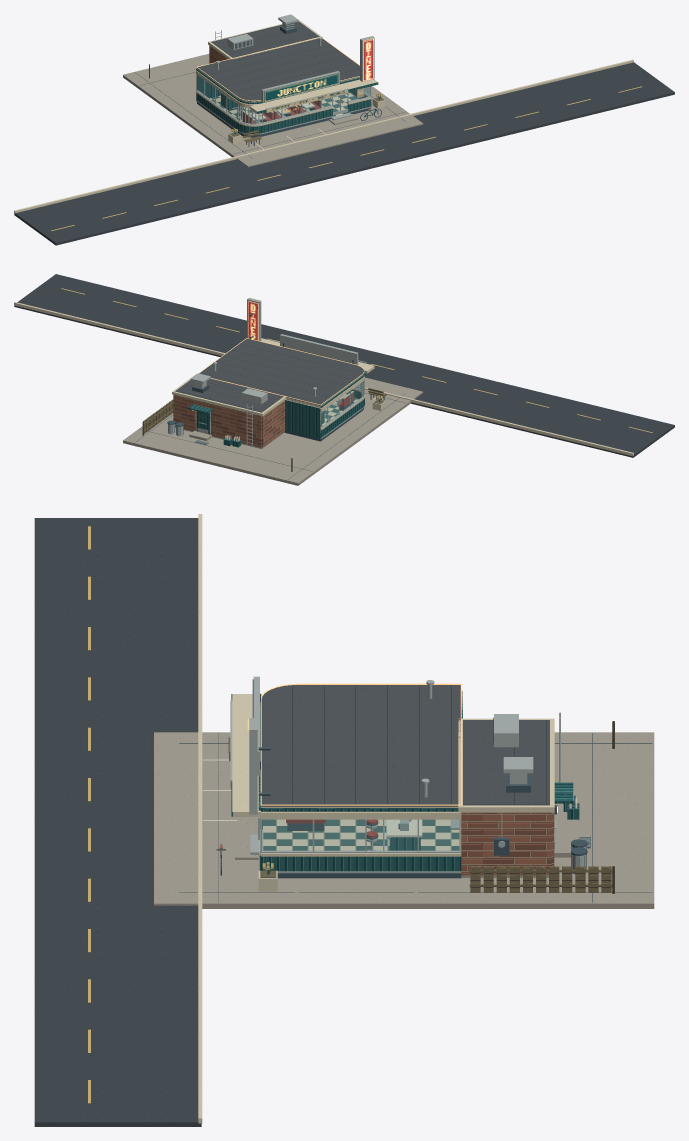
Rendered from junction-diner.glb.
3 renders of one model, top to bottom at view 1: azimuth 30°, elevation 25°; view 2: azimuth 150°, elevation 25°; view 3: azimuth 270°, elevation 25°, orthographic. The views are drawn at different scales.
Parts seen in each view (by area): view 1: Junction Diner | 11 • patched road, Junction Diner | 10 • sidewalk concrete, Junction Diner | 05 • rolled roofing, Junction Diner | 02 • warm porcelain enamel, Junction Diner | 06 • brushed aluminium, Junction Diner | 01 • oxidised teal enamel, Junction Diner | 12 • thin teal glazing, Junction Diner | 07 • deep outline, Junction Diner | 21 • original JUNCTION pixel lettering, Junction Diner | 09 • checker linoleum, Junction Diner | 13 • aged ochre paint, Junction Diner | 22 • original DINER pixel lettering (+2 smaller); view 2: Junction Diner | 11 • patched road, Junction Diner | 10 • sidewalk concrete, Junction Diner | 05 • rolled roofing, Junction Diner | 02 • warm porcelain enamel, Junction Diner | 04 • kitchen brick, Junction Diner | 06 • brushed aluminium, Junction Diner | 01 • oxidised teal enamel, Junction Diner | 07 • deep outline, Junction Diner | 12 • thin teal glazing, Junction Diner | 08 • weathered timber, Junction Diner | 20 • coral neon, Junction Diner | 22 • original DINER pixel lettering (+1 smaller); view 3: Junction Diner | 11 • patched road, Junction Diner | 10 • sidewalk concrete, Junction Diner | 05 • rolled roofing, Junction Diner | 02 • warm porcelain enamel, Junction Diner | 06 • brushed aluminium, Junction Diner | 12 • thin teal glazing, Junction Diner | 01 • oxidised teal enamel, Junction Diner | 04 • kitchen brick, Junction Diner | 09 • checker linoleum, Junction Diner | 08 • weathered timber, Junction Diner | 07 • deep outline, Junction Diner | 20 • coral neon (+1 smaller).
Part boxes in pixels (x1,y1,x2,y2): Junction Diner | 11 • patched road: [14, 62, 674, 245]; Junction Diner | 10 • sidewalk concrete: [123, 54, 423, 167]; Junction Diner | 05 • rolled roofing: [197, 21, 359, 101]; Junction Diner | 02 • warm porcelain enamel: [14, 20, 633, 213]; Junction Diner | 06 • brushed aluminium: [196, 14, 379, 134]; Junction Diner | 01 • oxidised teal enamel: [196, 68, 378, 134]; Junction Diner | 12 • thin teal glazing: [197, 75, 370, 123]; Junction Diner | 07 • deep outline: [135, 23, 405, 158]; Junction Diner | 21 • original JUNCTION pixel lettering: [264, 73, 338, 101]; Junction Diner | 09 • checker linoleum: [209, 92, 357, 122]; Junction Diner | 13 • aged ochre paint: [51, 86, 641, 231]; Junction Diner | 22 • original DINER pixel lettering: [363, 39, 373, 81]; Junction Diner | 11 • patched road: [14, 274, 674, 457]; Junction Diner | 10 • sidewalk concrete: [123, 377, 423, 485]; Junction Diner | 05 • rolled roofing: [175, 338, 363, 412]; Junction Diner | 02 • warm porcelain enamel: [14, 302, 633, 456]; Junction Diner | 04 • kitchen brick: [173, 395, 285, 447]; Junction Diner | 06 • brushed aluminium: [168, 298, 366, 445]; Junction Diner | 01 • oxidised teal enamel: [188, 338, 375, 447]; Junction Diner | 07 • deep outline: [135, 313, 405, 479]; Junction Diner | 12 • thin teal glazing: [201, 382, 363, 426]; Junction Diner | 08 • weathered timber: [142, 388, 386, 471]; Junction Diner | 20 • coral neon: [199, 298, 364, 405]; Junction Diner | 22 • original DINER pixel lettering: [248, 301, 258, 340]; Junction Diner | 11 • patched road: [34, 518, 201, 1126]; Junction Diner | 10 • sidewalk concrete: [154, 732, 654, 908]; Junction Diner | 05 • rolled roofing: [261, 685, 549, 806]; Junction Diner | 02 • warm porcelain enamel: [198, 514, 554, 1123]; Junction Diner | 06 • brushed aluminium: [221, 676, 589, 874]; Junction Diner | 12 • thin teal glazing: [262, 820, 460, 850]; Junction Diner | 01 • oxidised teal enamel: [220, 693, 579, 873]; Junction Diner | 04 • kitchen brick: [461, 812, 554, 875]; Junction Diner | 09 • checker linoleum: [263, 819, 459, 850]; Junction Diner | 08 • weathered timber: [228, 721, 614, 893]; Junction Diner | 07 • deep outline: [179, 679, 652, 902]; Junction Diner | 20 • coral neon: [247, 683, 461, 805].
Size of the model in its own units: 60 by 7.23 by 26.
Materials: 26 (16 with a texture image).
